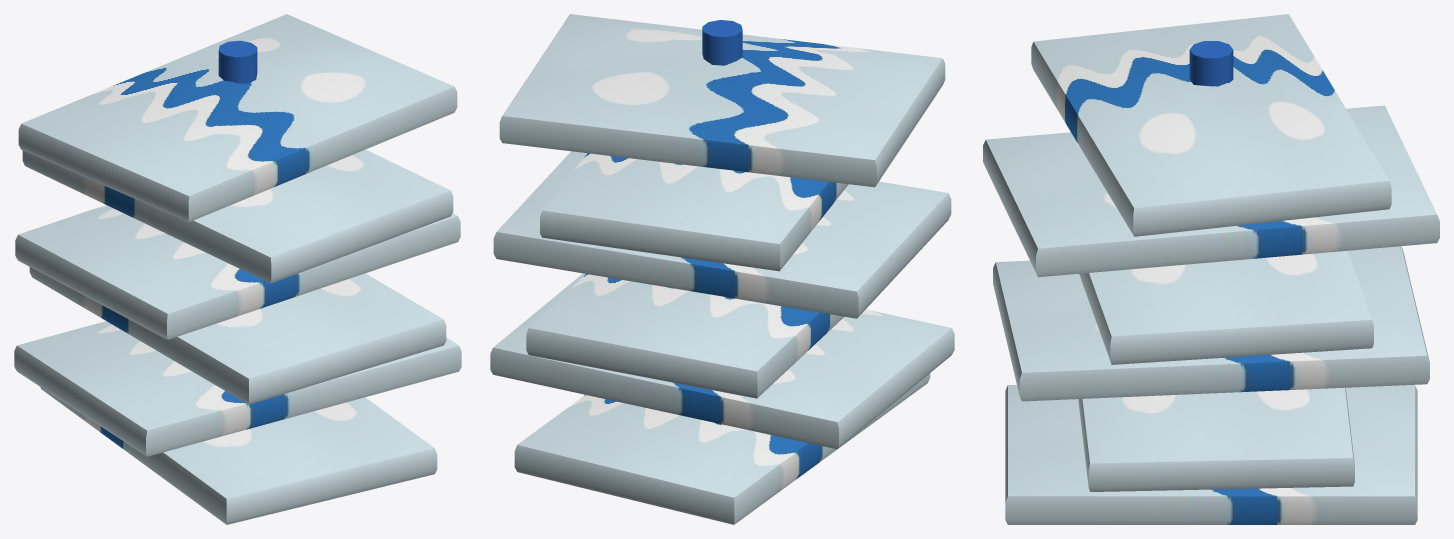
The model's file is ration_water_pouches_stack.glb.
3 renders of one model, left to right at view 1: azimuth 30°, elevation 25°; view 2: azimuth 150°, elevation 25°; view 3: azimuth 270°, elevation 25°, orthographic. The views are drawn at different scales.
Parts seen in each view (by area): view 1: ration_water_pouches_stack; view 2: ration_water_pouches_stack; view 3: ration_water_pouches_stack.
Boxes of the visible parts, x1,y1,x2,y2 form: ration_water_pouches_stack: (14,14,461,524); ration_water_pouches_stack: (490,14,954,524); ration_water_pouches_stack: (983,14,1439,524).
Bounding box in the file's own units: 0.1919 × 0.191 × 0.1885.
Materials: 2 (1 with a texture image).
